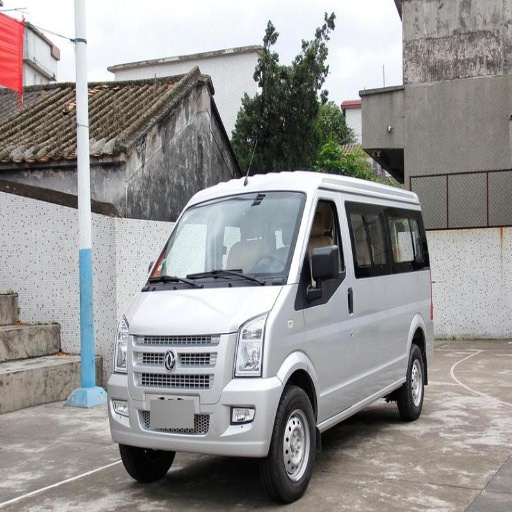front_bumper: (106, 332, 284, 456)
front_glass: (145, 193, 305, 290)
front_left_door: (302, 194, 377, 419)
